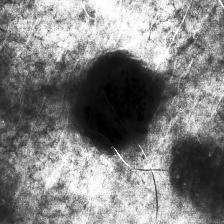Benign Marking or Mole: (79, 56, 163, 149)
